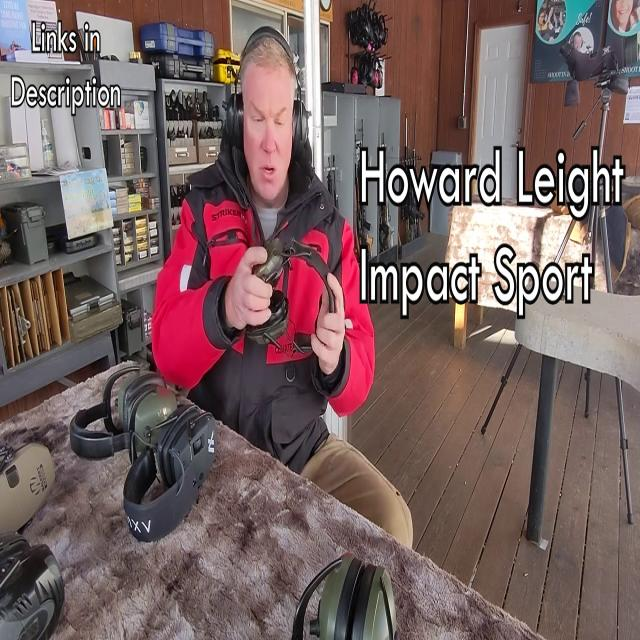earmuff: (221, 81, 247, 149), (290, 87, 313, 157)
